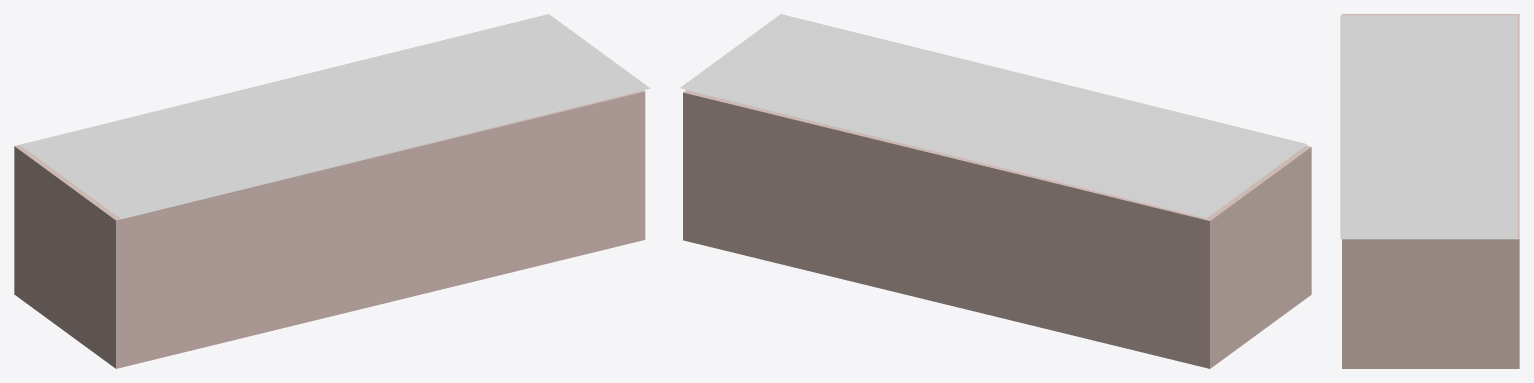
File: Hall.fbx
3 renders of one model, left to right at view 1: azimuth 30°, elevation 25°; view 2: azimuth 150°, elevation 25°; view 3: azimuth 270°, elevation 25°, orthographic. The views are drawn at different scales.
Parts seen in each view (by area): view 1: Room, Ceiling; view 2: Room, Ceiling; view 3: Ceiling, Room.
Part boxes in pixels (x1,y1,x2,y2): Room: [14, 90, 645, 368]; Ceiling: [20, 14, 650, 219]; Room: [683, 90, 1311, 368]; Ceiling: [680, 14, 1307, 218]; Ceiling: [1340, 15, 1517, 239]; Room: [1342, 14, 1519, 368].
Bounding box in the file's own units: 1513 × 420 × 505.
